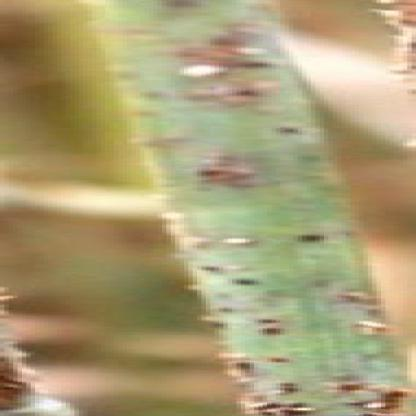wheat Stem Rust: (239, 365, 415, 415), (180, 32, 266, 106), (180, 151, 278, 194), (207, 227, 352, 254), (201, 265, 304, 295), (229, 306, 328, 336), (338, 309, 409, 339)
